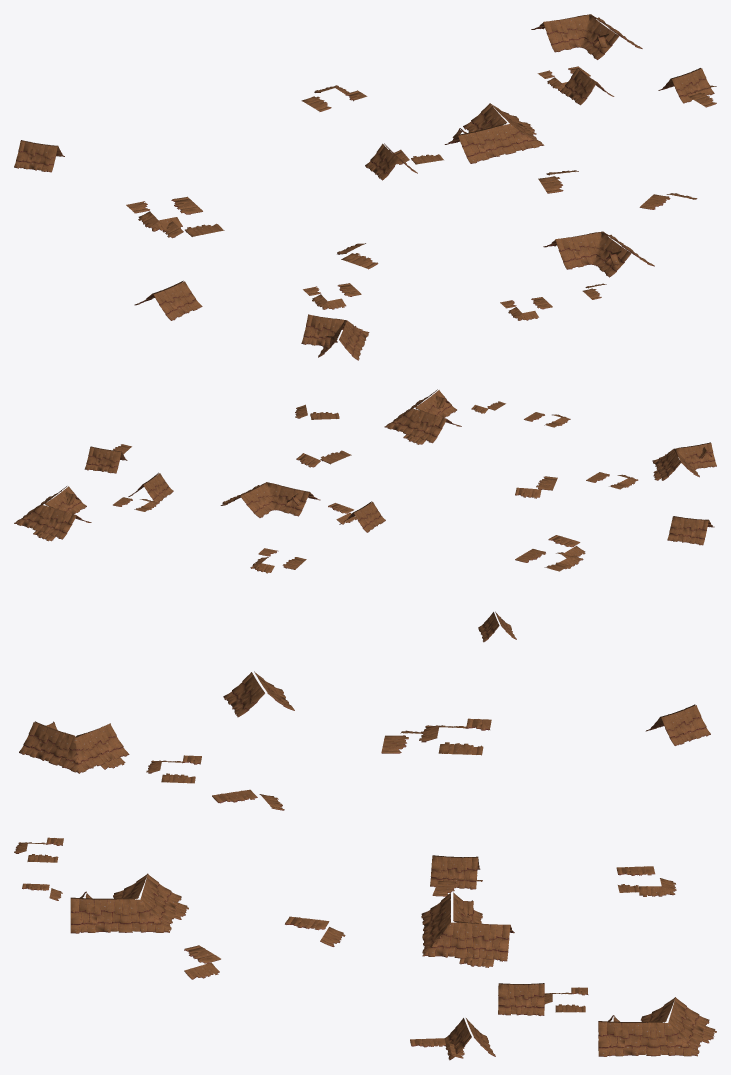
Rendered from WoodRoofs.FBX.
The picture shows the model from 3 angles, top to bottom: view 1: azimuth 30°, elevation 25°; view 2: azimuth 150°, elevation 25°; view 3: azimuth 270°, elevation 25°; orthographic projection. The views are drawn at different scales.
Parts seen in each view (by area): view 1: Roof_Low_070; view 2: Roof_Low_070; view 3: Roof_Low_070.
Part boxes in pixels (x1,y1,x2,y2): Roof_Low_070: [14, 14, 716, 360]; Roof_Low_070: [14, 389, 716, 642]; Roof_Low_070: [14, 671, 716, 1060].
Size of the model in its own units: 10889 by 390 by 8701.
